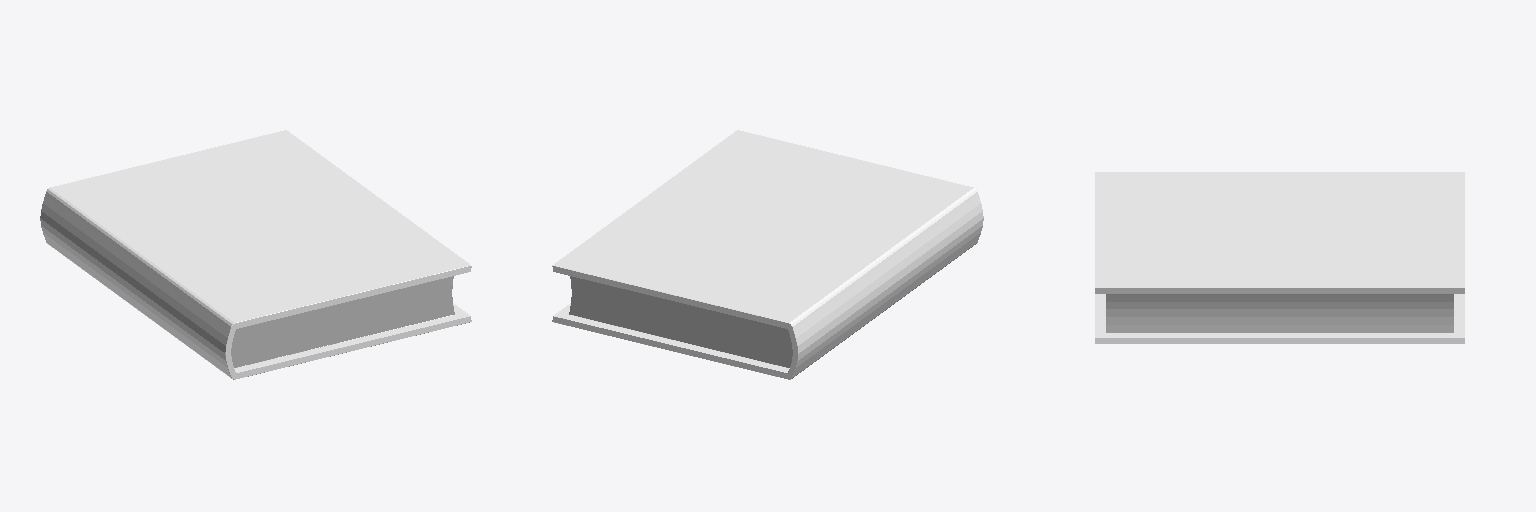
The model's file is book.obj.
The picture shows the model from 3 angles: view 1: azimuth 30°, elevation 25°; view 2: azimuth 150°, elevation 25°; view 3: azimuth 270°, elevation 25°; orthographic projection.
Parts seen in each view (by area): view 1: Book_2; view 2: Book_2; view 3: Book_2.
Boxes of the visible parts, x1=… form: Book_2: x1=40, y1=130, x2=471, y2=379; Book_2: x1=552, y1=130, x2=983, y2=379; Book_2: x1=1095, y1=172, x2=1464, y2=343.
Size of the model in its own units: 1.8 by 0.3966 by 2.35.